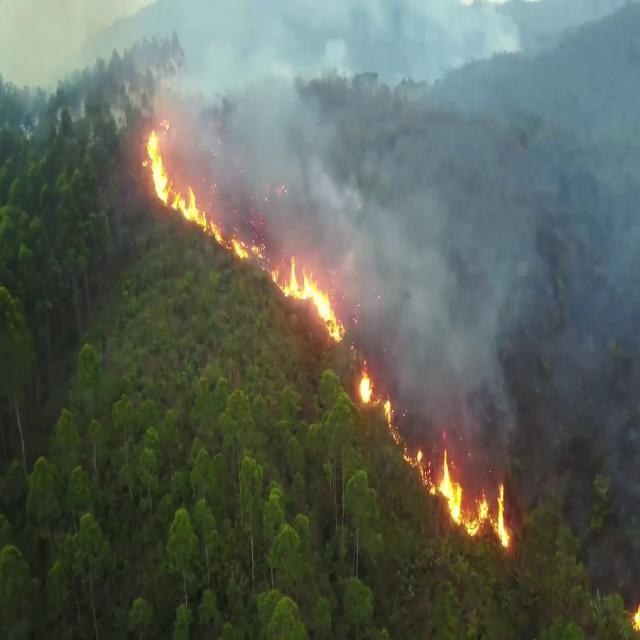Fire: (140, 117, 345, 343), (383, 394, 511, 550), (358, 358, 372, 403), (631, 601, 640, 631)
Smoke: (149, 0, 640, 516)
